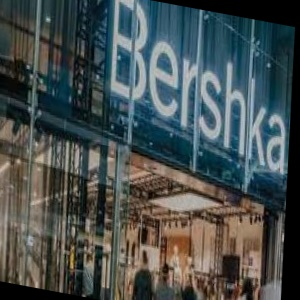bershka: (151, 13, 294, 43)
